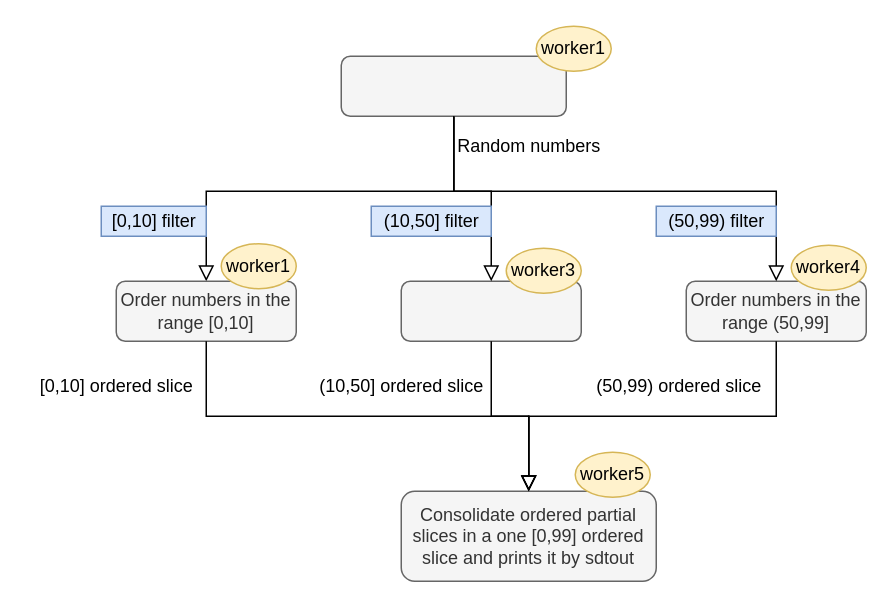
The diagram is 893 pixels wide and 608 high, and some of its shapes have lost their labels. Each missing label, with the box of its shape:
Generate random numbers [0,99]: (340, 55, 566, 116)
Order numbers in the range (10,50]: (400, 280, 581, 341)
